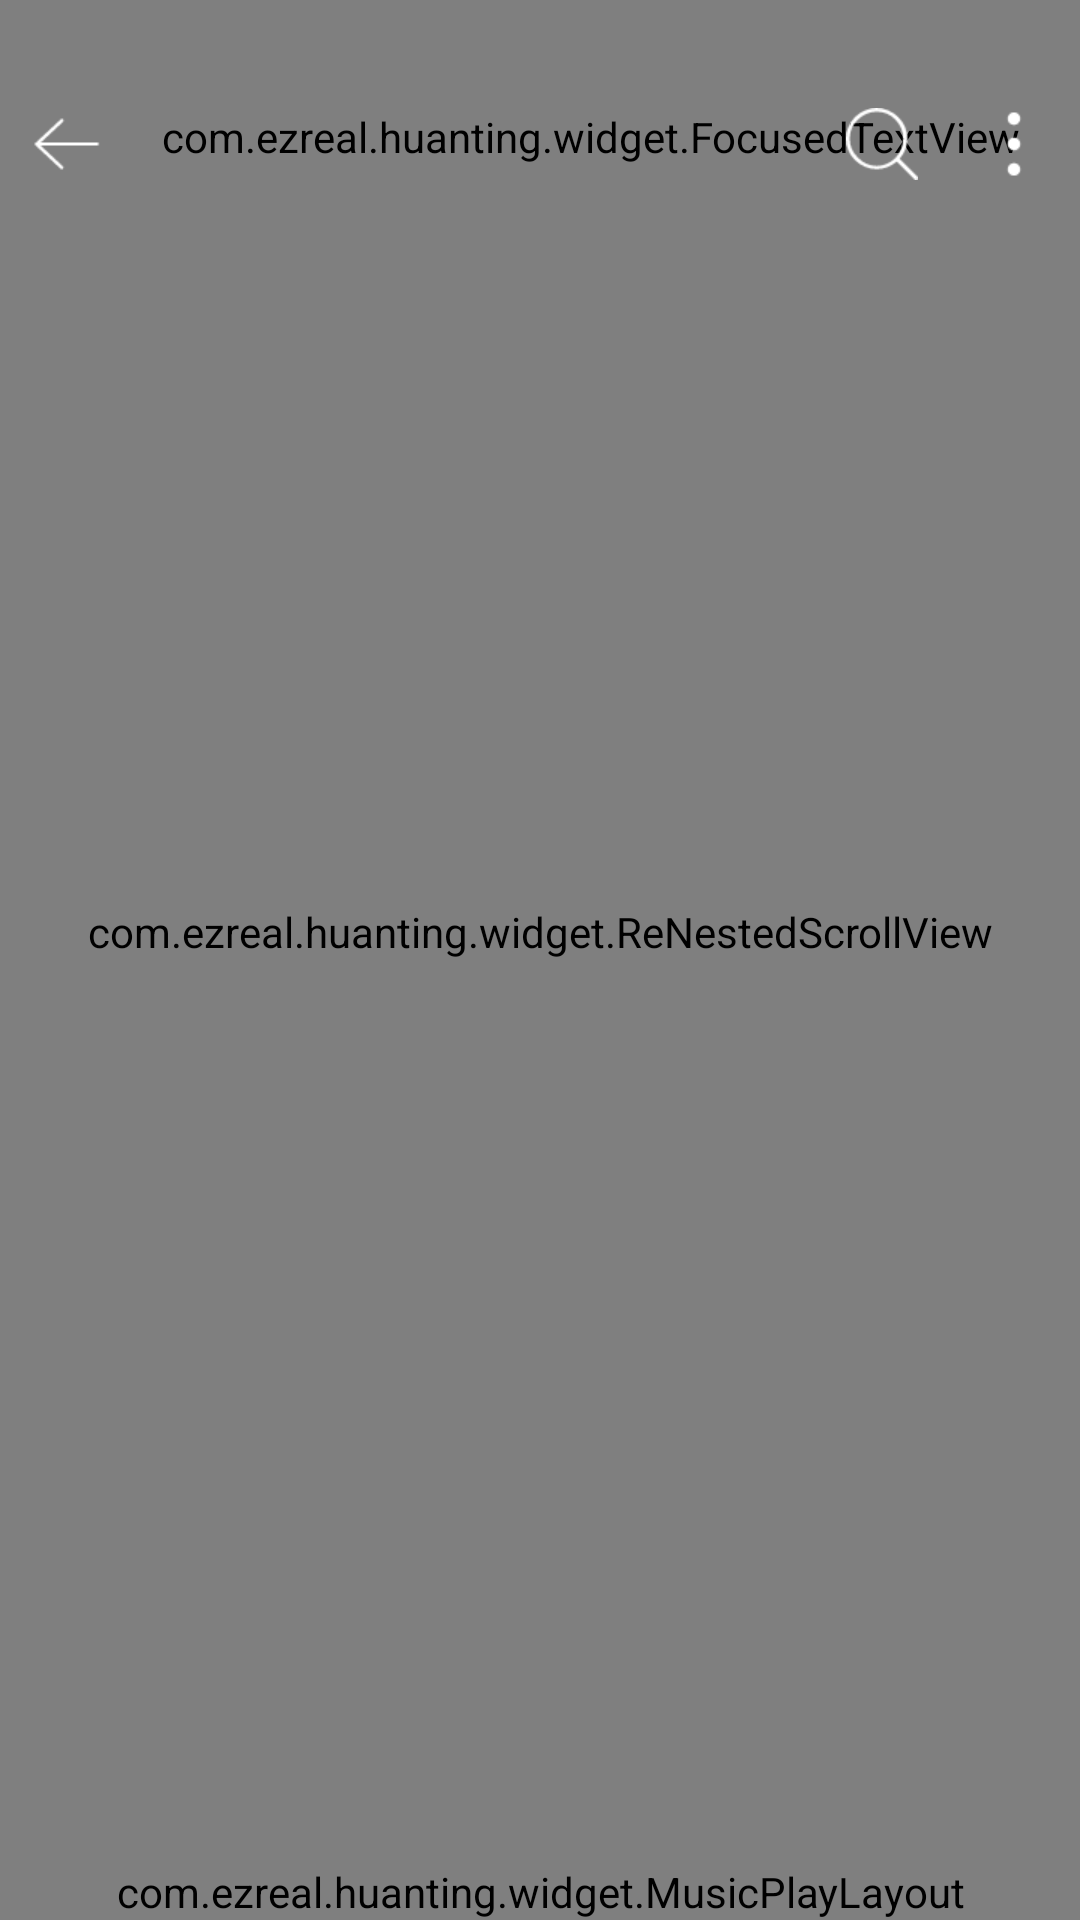

Named icons in this screenshot (1080 × 1920) and their centers, (x,y):
search: (882,144)
title back: (66,144)
